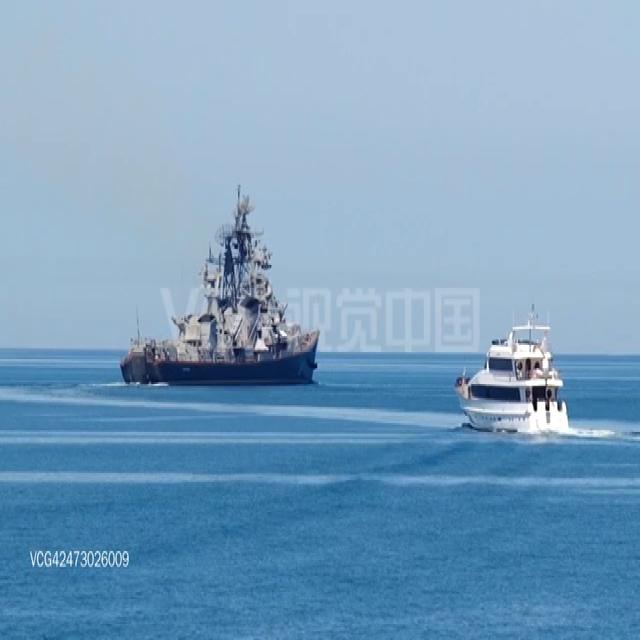houseboat: (452, 310, 566, 436)
navalvessels: (110, 179, 324, 389)
